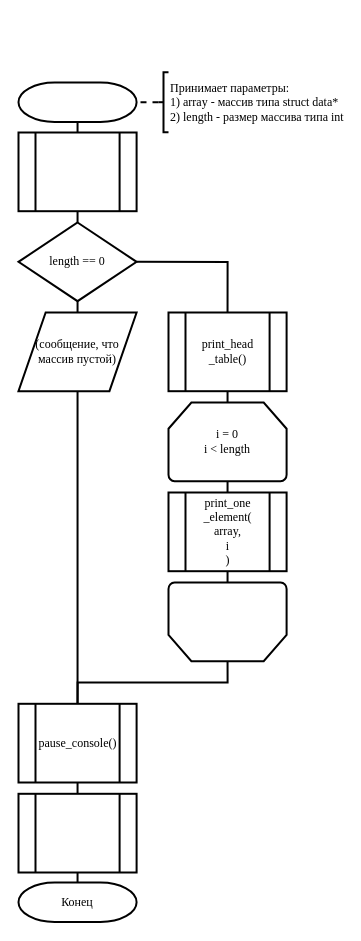
This 361x941 diagram has some shape labels left out. The shapes that lost their labels are listed below. From the top down, each one's centre as x and y in pixels, then its label:
[77,101]: void view_all _elements()
[77,171]: clear_console()
[227,621]: i++
[77,832]: menu( array, length )
